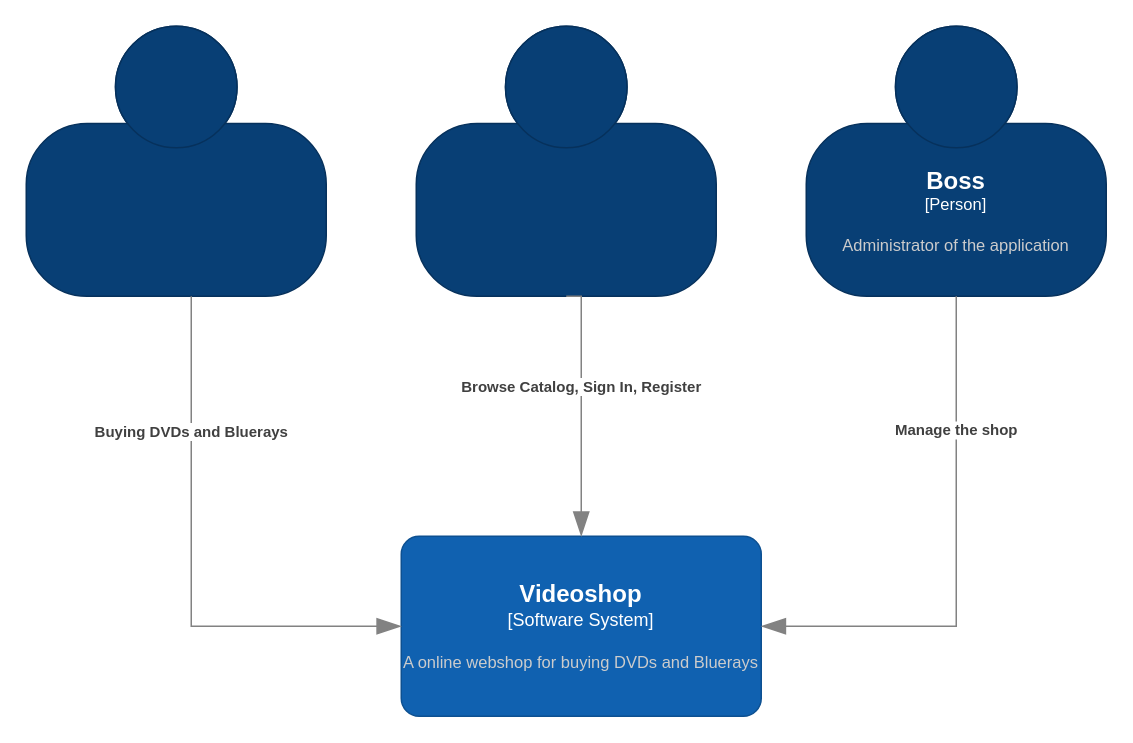
Image size: 1133x743. Some labels were removed from this diagram. The box of each missing label's shape, as (x1, y1, x2, y2) in pixels:
Customer [Person] User, who is logged in an account: (25, 25, 326, 296)
Unauthenticated User [Person] A visitor of the shop: (415, 25, 716, 296)
